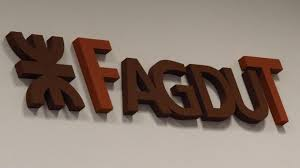utn: (6, 24, 85, 110)
